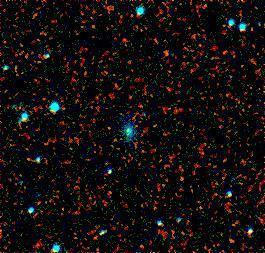star: (152, 54, 182, 84)
